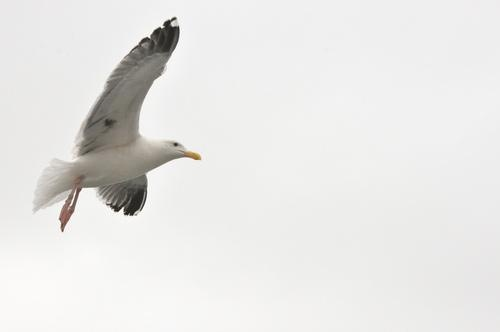bird: (27, 11, 203, 233)
